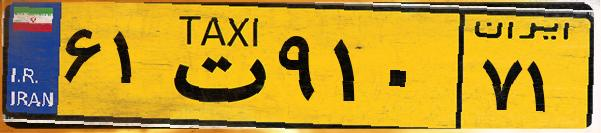0: (385, 28, 445, 110)
1: (330, 28, 385, 110), (525, 38, 570, 115), (110, 28, 158, 98)
6: (57, 26, 110, 100)
7: (475, 38, 525, 113)
9: (270, 28, 330, 110)
ت: (158, 12, 270, 120)
